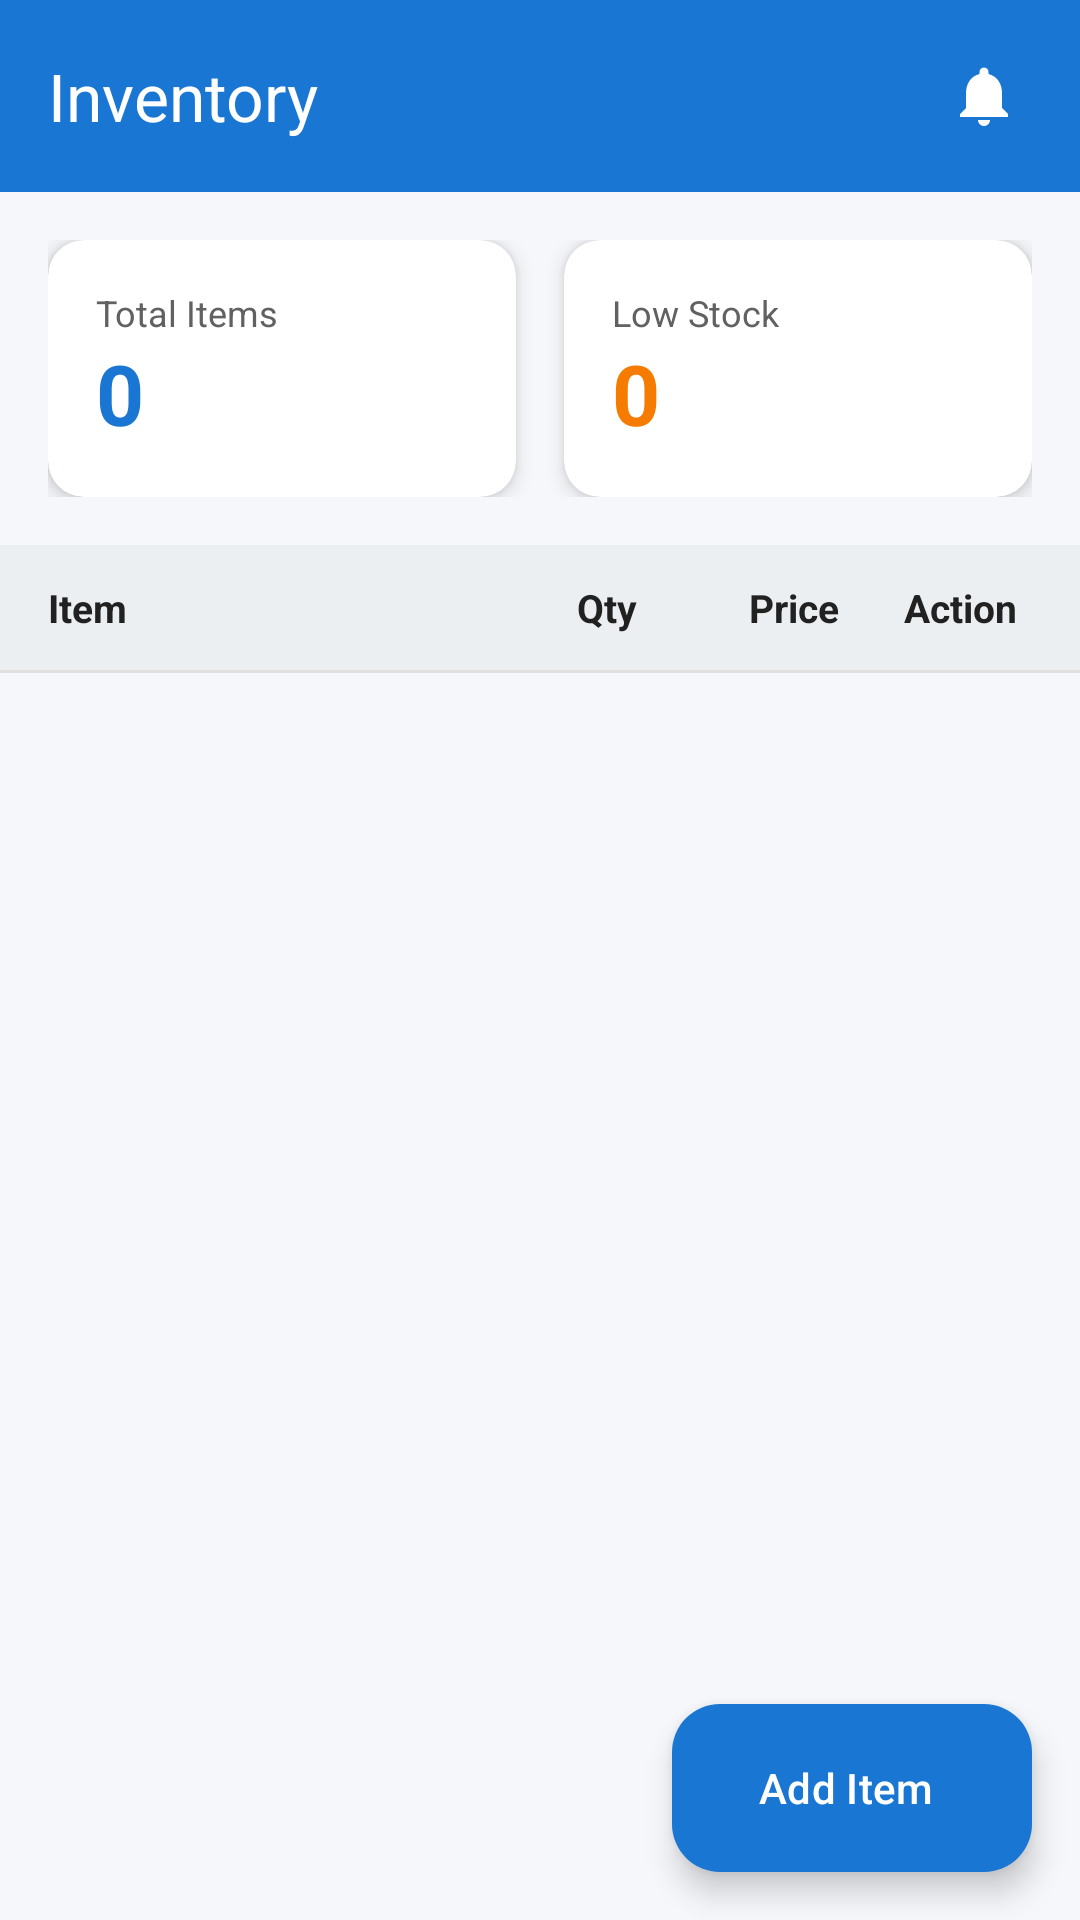

Point at icon controls on the screen. Image size 1080px×1920px, points as (x,y).
Notifications: (984,96)
